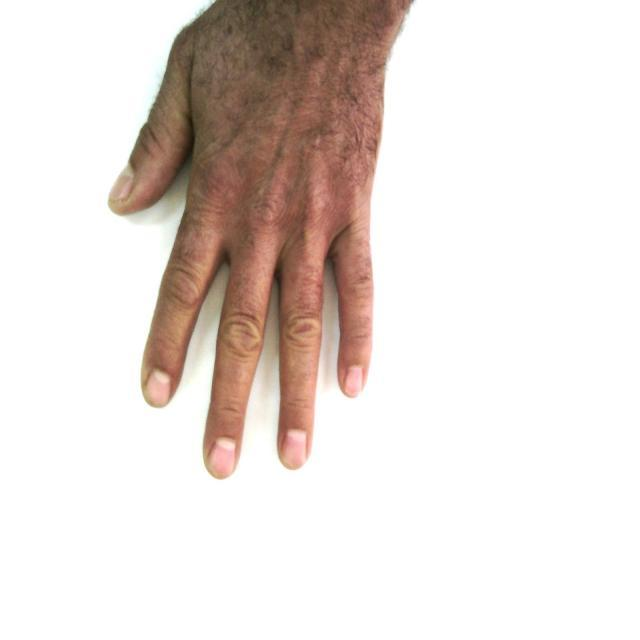Fingernail: (210, 439, 235, 478), (283, 429, 307, 468), (147, 371, 170, 406), (110, 167, 133, 202), (346, 365, 363, 397)
